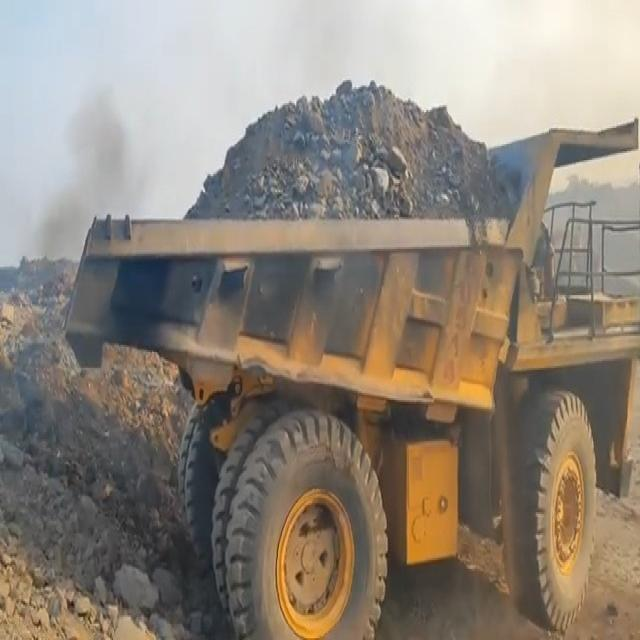dump_truck: (85, 99, 636, 640)
